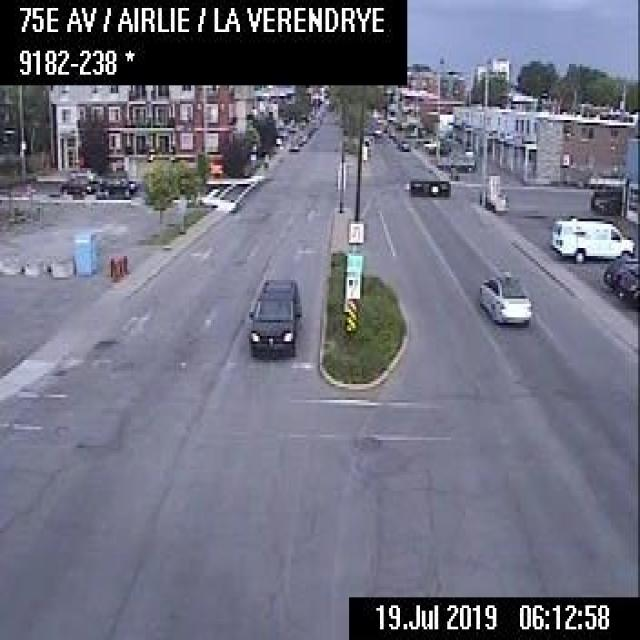construction: (121, 251, 128, 273), (112, 254, 118, 279), (116, 253, 122, 275), (108, 255, 113, 276)
vehicle: (245, 272, 300, 363), (550, 215, 634, 261), (476, 272, 533, 328), (602, 260, 638, 302), (56, 170, 94, 196), (435, 152, 474, 172), (96, 174, 133, 195), (371, 126, 382, 140), (394, 138, 408, 148), (287, 140, 299, 150)
